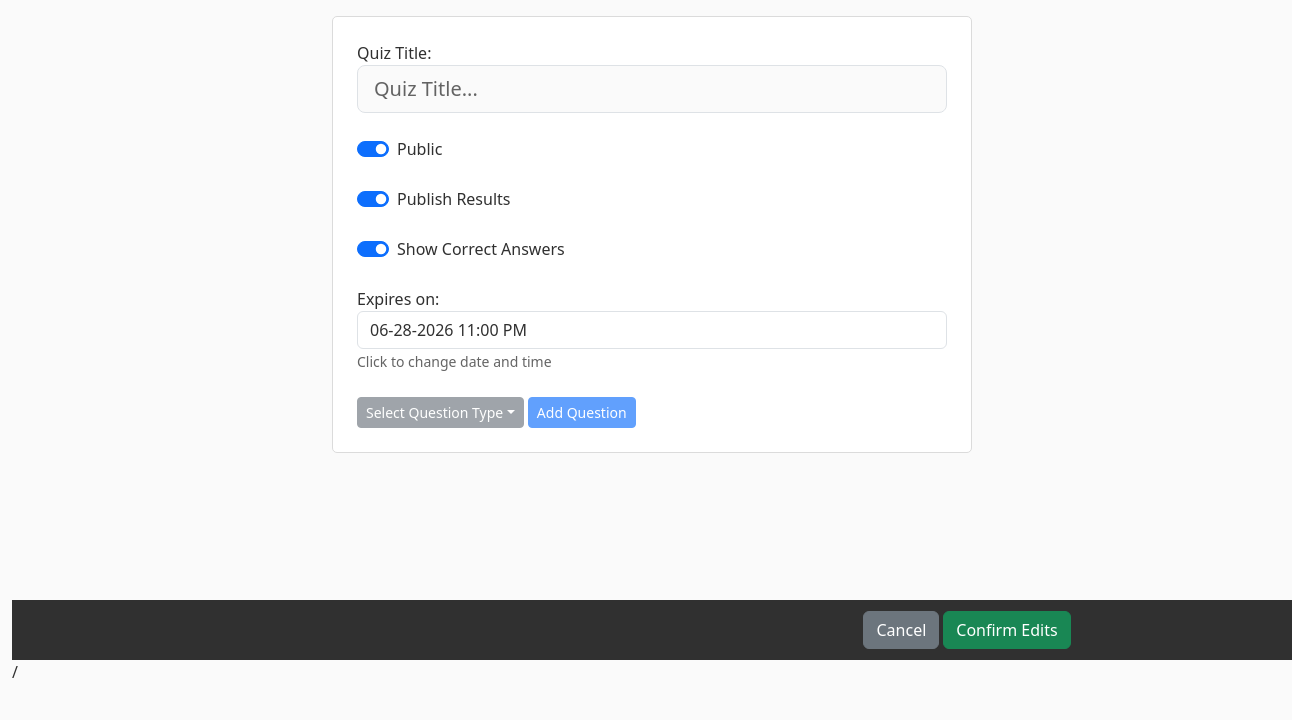
Test: QuizEditor › redirects to /dashboard and creates an alert after successful submit
Click the button "Confirm Edits".
click(1007, 630)  # box x1=943 y1=611 x2=1071 y2=649
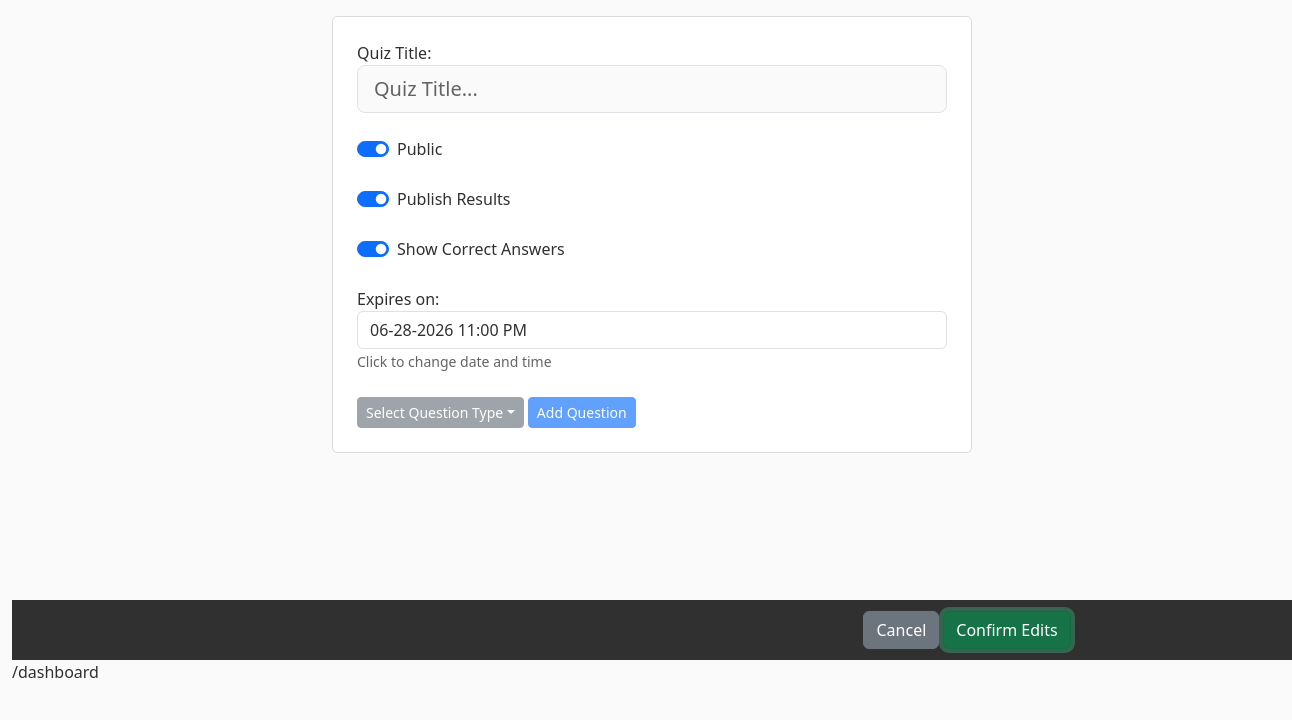
Now the text with test id "router-location" reads "/dashboard", box x1=12 y1=661 x2=99 y2=683
